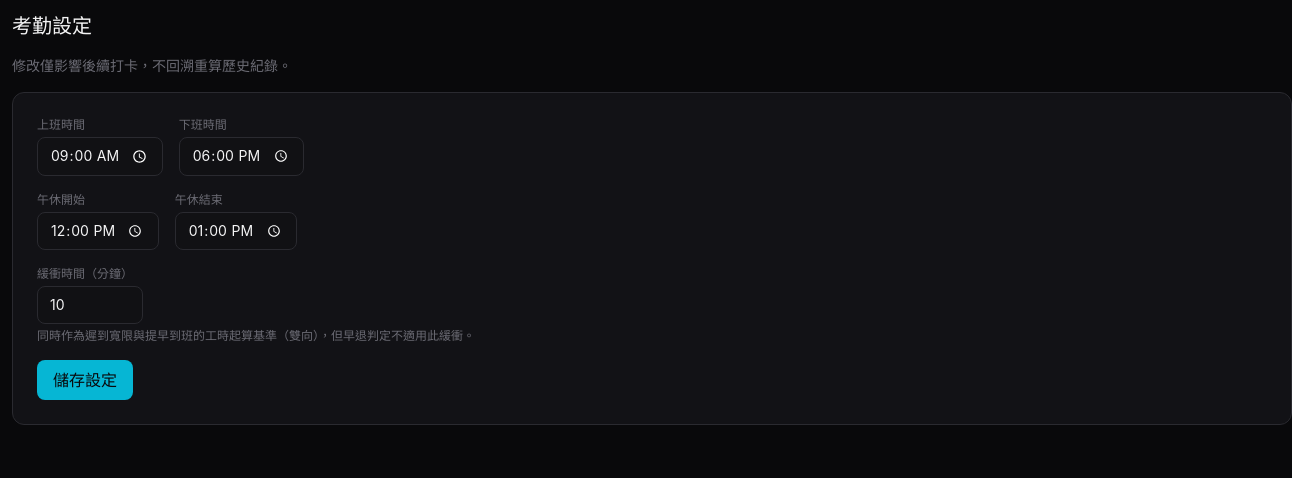
Scenario: 前端違反上班<午休開始<午休結束<下班時擋下，不呼叫 API
The image size is (1292, 478).
Check: the time field labelled "上班時間" holds "09:00", box [37, 137, 163, 176]
Replace the text in the time field labelled "午休開始" with "08:00" at [98, 231], box [37, 212, 159, 250]
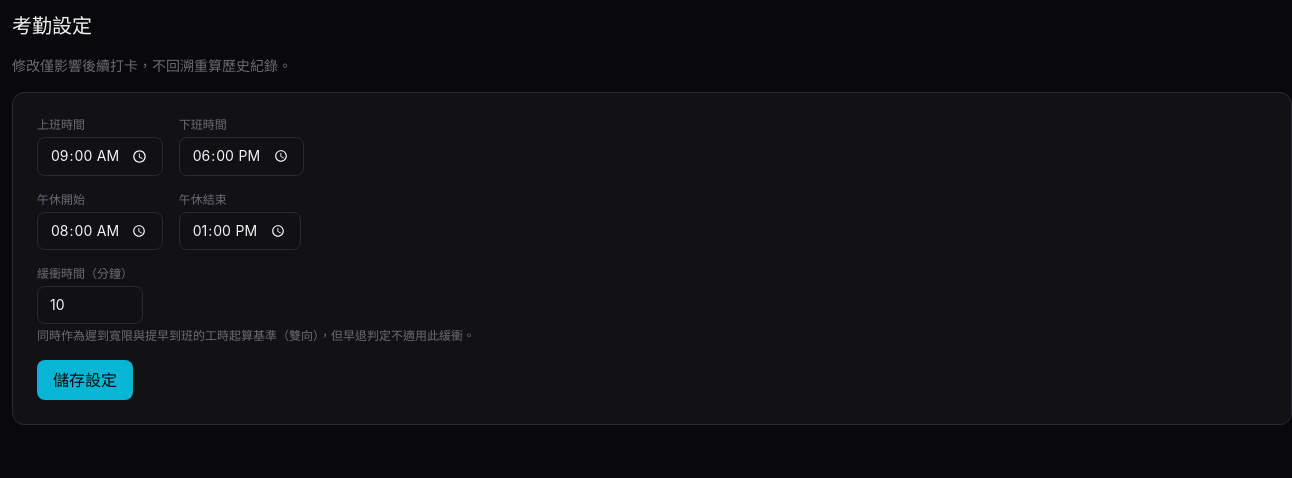
Click the button "儲存設定" at [85, 380], box [37, 360, 133, 400]
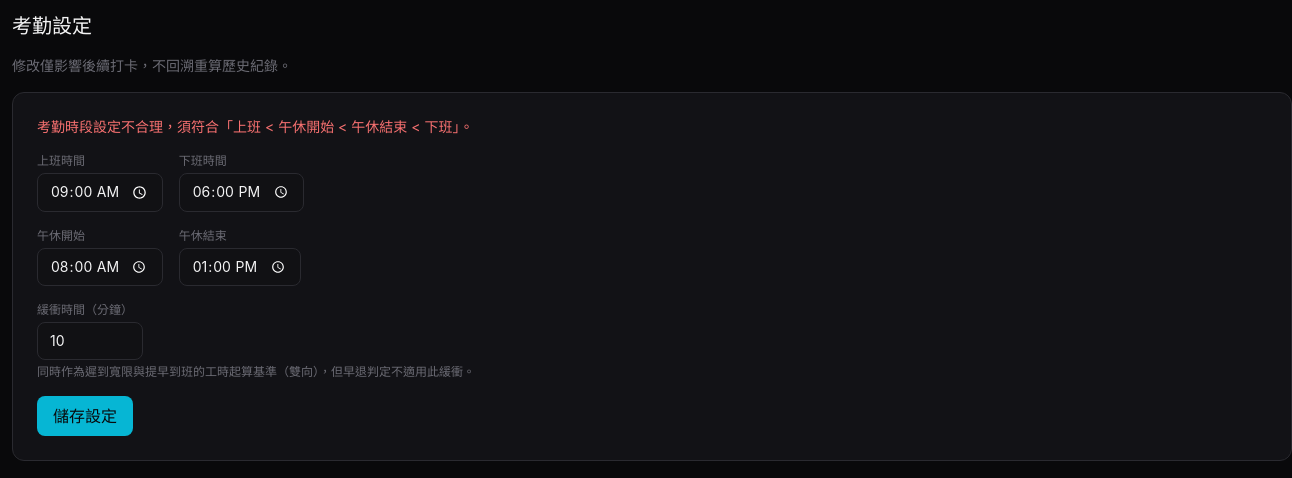
Check: the text "考勤時段設定不合理，須符合「上班 < 午休開始 < 午休結束 < 下班」。" is shown, box [37, 118, 473, 135]
